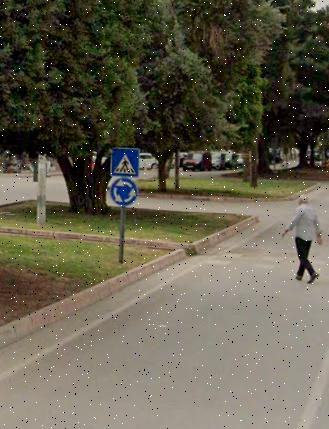crossroads: (113, 177, 138, 207)
